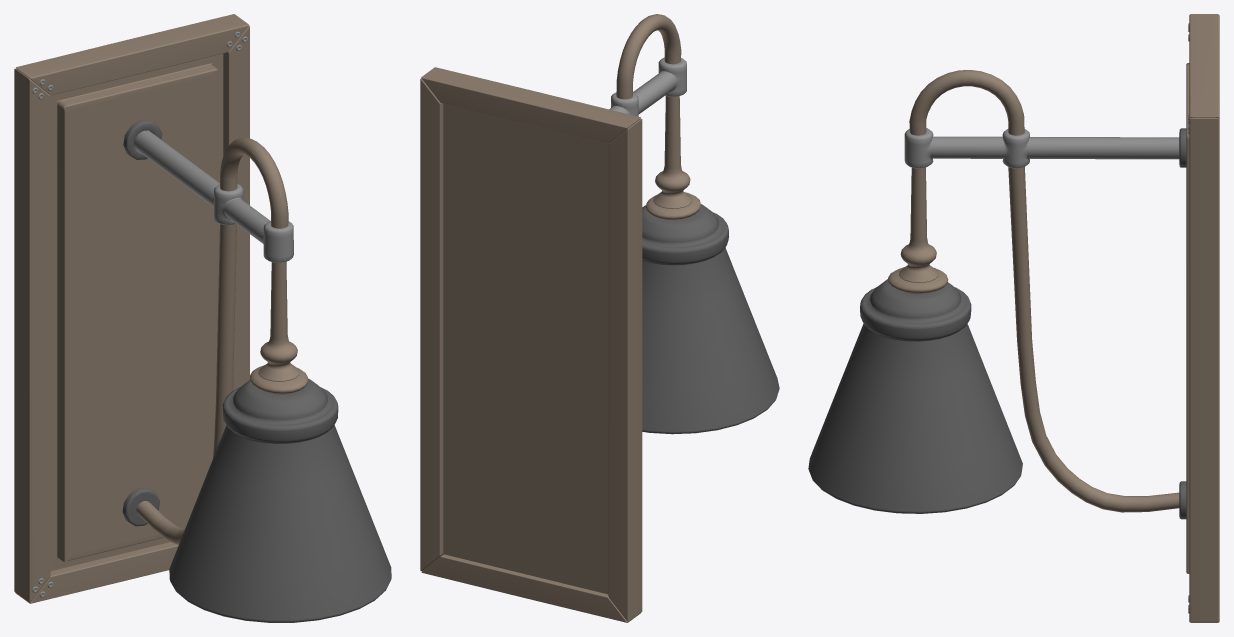
Rendered from parts.gltf.
3 renders of one model, left to right at view 1: azimuth 30°, elevation 25°; view 2: azimuth 150°, elevation 25°; view 3: azimuth 270°, elevation 25°, orthographic. The views are drawn at different scales.
Visible parts, largest first — view 1: industrial_wall_sconce; view 2: industrial_wall_sconce; view 3: industrial_wall_sconce.
Boxes of the visible parts, <box> form: industrial_wall_sconce: <box>14,14,391,622</box>; industrial_wall_sconce: <box>420,14,779,622</box>; industrial_wall_sconce: <box>808,14,1219,622</box>.
Bounding box in the file's own units: 0.1503 × 0.3418 × 0.2516.
